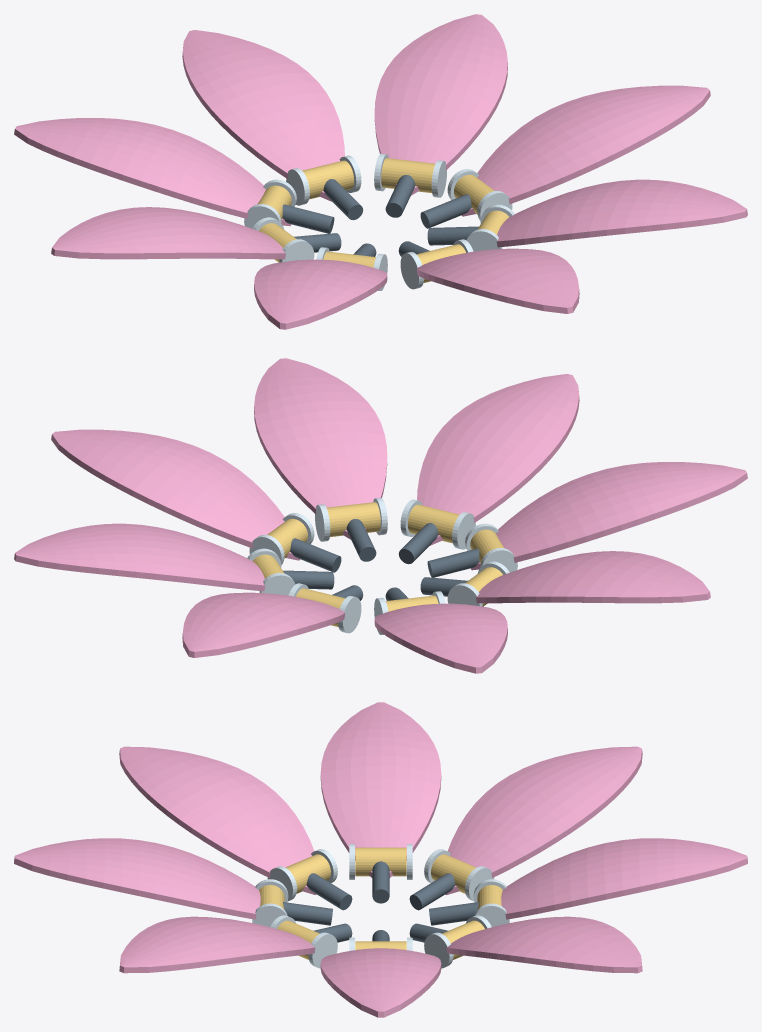
The model's file is parametric_petals_8.glb.
3 views of the same model, one above another, from view 1: azimuth 30°, elevation 25°; view 2: azimuth 150°, elevation 25°; view 3: azimuth 270°, elevation 25° (orthographic). The views are drawn at different scales.
Visible parts, largest first — view 1: Lotus_Parametric_Petals; view 2: Lotus_Parametric_Petals; view 3: Lotus_Parametric_Petals.
Part boxes in pixels (x1,y1,x2,y2): Lotus_Parametric_Petals: (14, 14, 747, 329); Lotus_Parametric_Petals: (14, 358, 747, 673); Lotus_Parametric_Petals: (14, 702, 747, 1017).
Bounding box in the file's own units: 8.15 × 0.8801 × 8.15.
